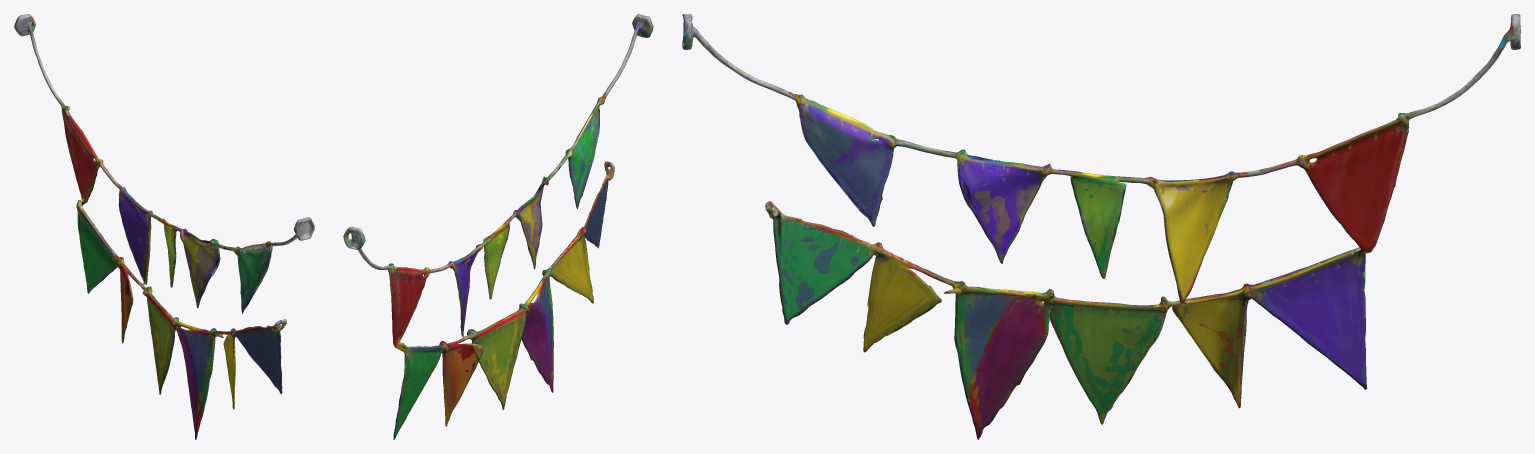
The model's file is 3D_model_of_festive_c_0208180651_texture.fbx.
The picture shows the model from 3 angles, left to right: view 1: azimuth 30°, elevation 25°; view 2: azimuth 150°, elevation 25°; view 3: azimuth 270°, elevation 25°; orthographic projection. The views are drawn at different scales.
Parts seen in each view (by area): view 1: Mesh1_Mesh1.048; view 2: Mesh1_Mesh1.048; view 3: Mesh1_Mesh1.048.
Boxes of the visible parts, x1,y1,x2,y2 form: Mesh1_Mesh1.048: (14,14,314,439); Mesh1_Mesh1.048: (343,14,653,439); Mesh1_Mesh1.048: (682,14,1520,439).
Bounding box in the file's own units: 10.03 × 113 × 200.
Materials: 1 (1 with a texture image).
